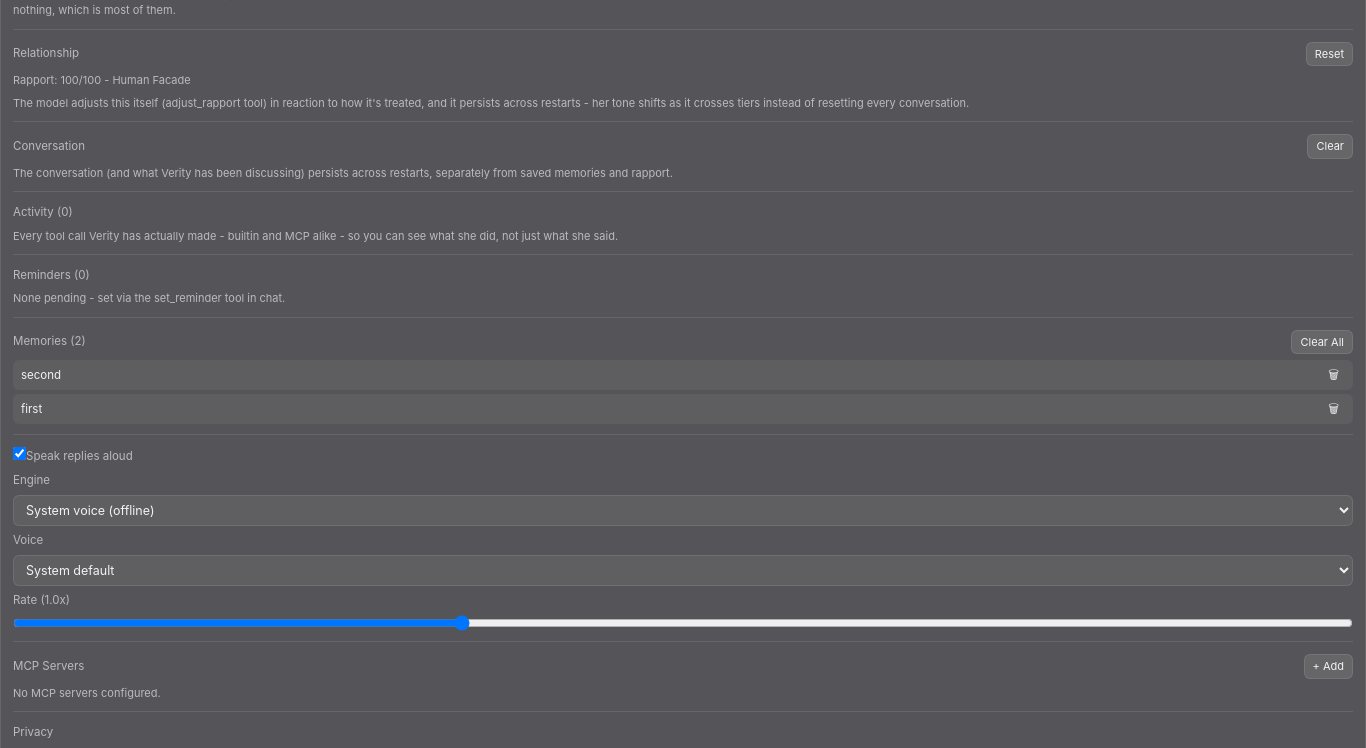
Test: SettingsPanel › memories › lists memories newest-first with a count, and deletes one
This screenshot has width=1366, height=748.
(page scrolled)
Expected: the text "Memories (2)" is shown, [13, 333, 86, 351]
Click the button named "Forget this" at (1334, 375), box [1322, 365, 1345, 385]
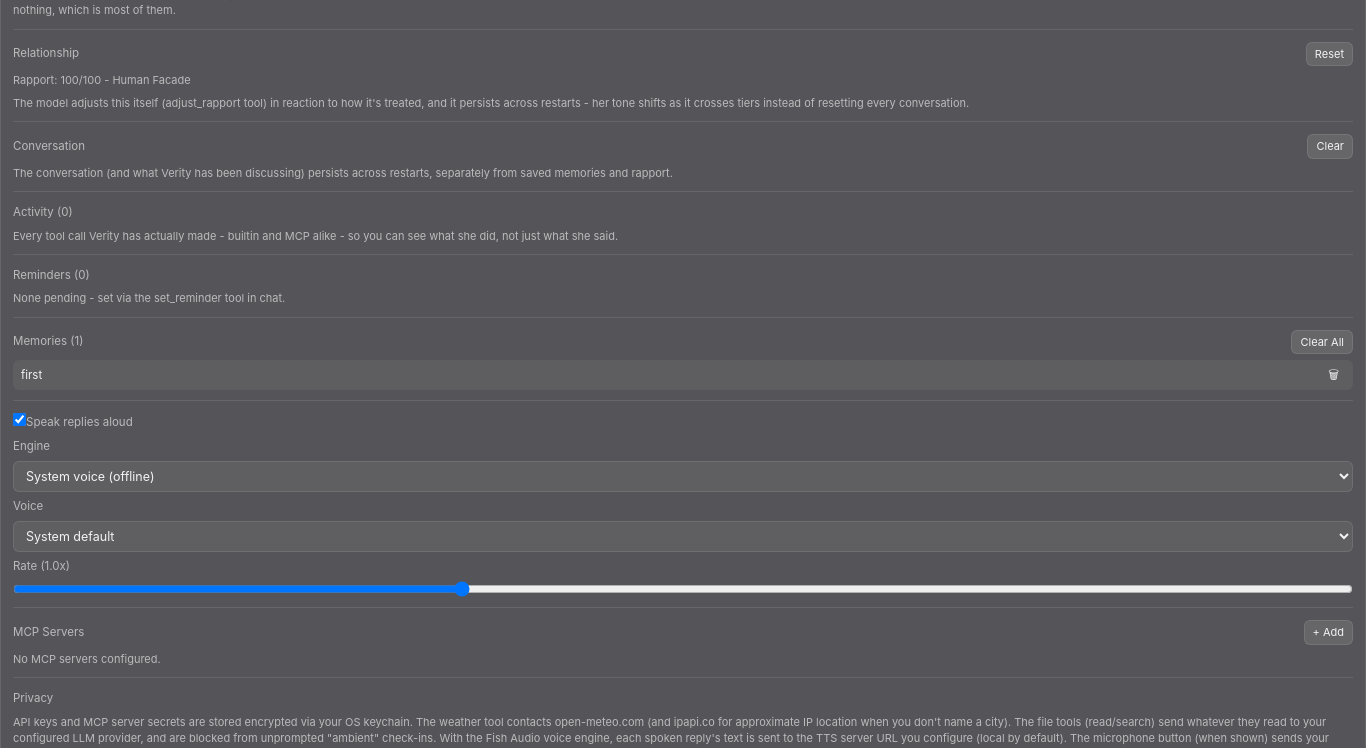
Expected: the text "Memories (1)" is shown, [13, 333, 83, 351]
